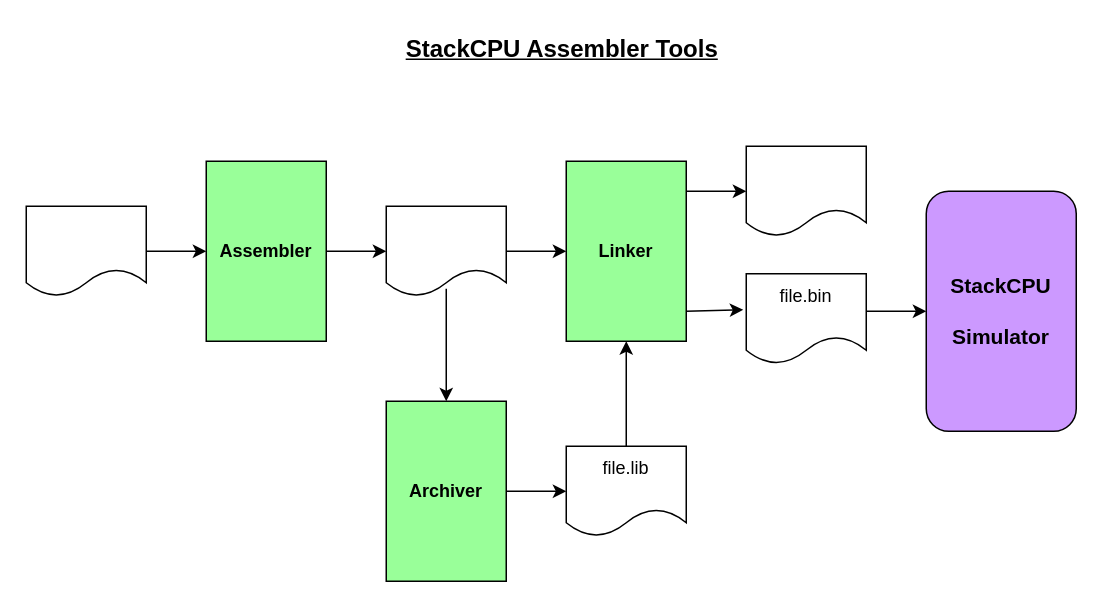
This 1103x608 diagram has some shape labels left out. Each missing label, with the centre of its shape:
file.asm: [85,250]
file.hex: [805,190]
file.obj: [445,250]
